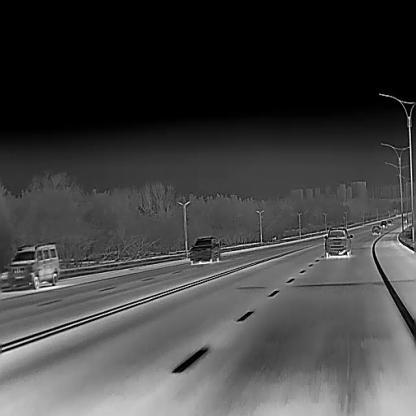car: (7, 242, 59, 289), (189, 236, 221, 263), (324, 227, 353, 256), (373, 225, 380, 233), (380, 220, 386, 225), (388, 220, 391, 224)
